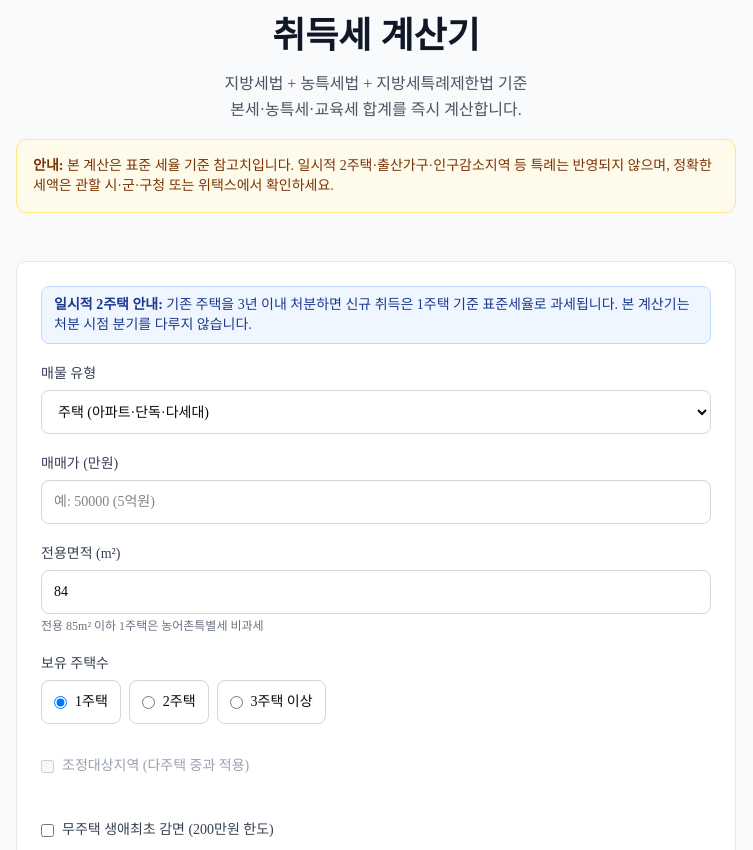
it: /tools/acquisition-tax 페이지 › 오피스텔 선택 → 생애최초 비활성 + 사유 노출
The width and height of the screenshot is (753, 850).
Step 1. Select "오피스텔·상가 (4.6%)" in the dropdown labelled "매물 유형" → (376, 412), box [41,390,711,434]
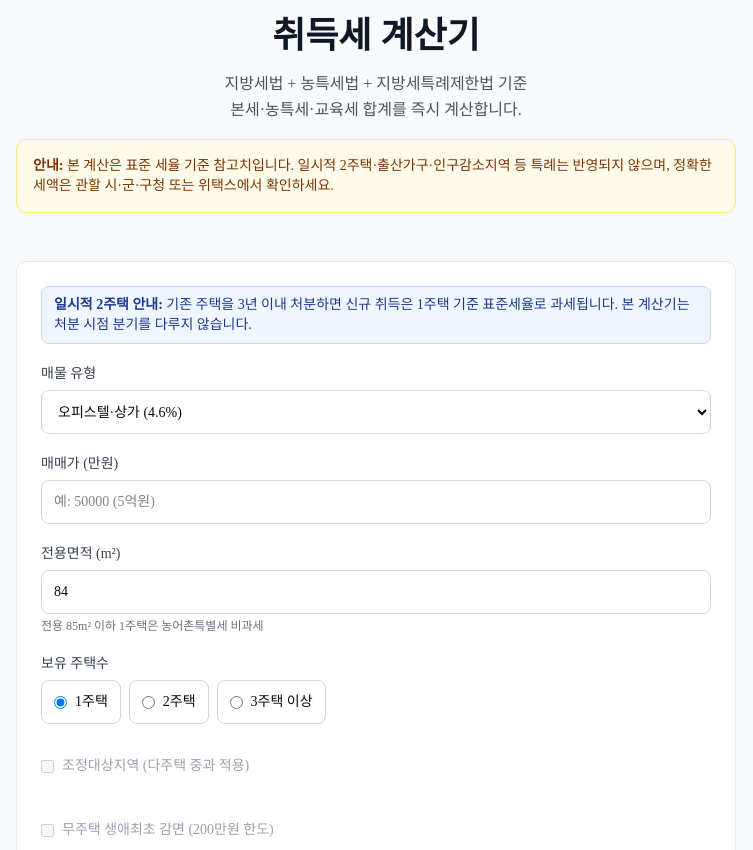
Result: the checkbox labelled "무주택 생애최초 감면 (200만원 한도)" is disabled at [41,824,54,836]
